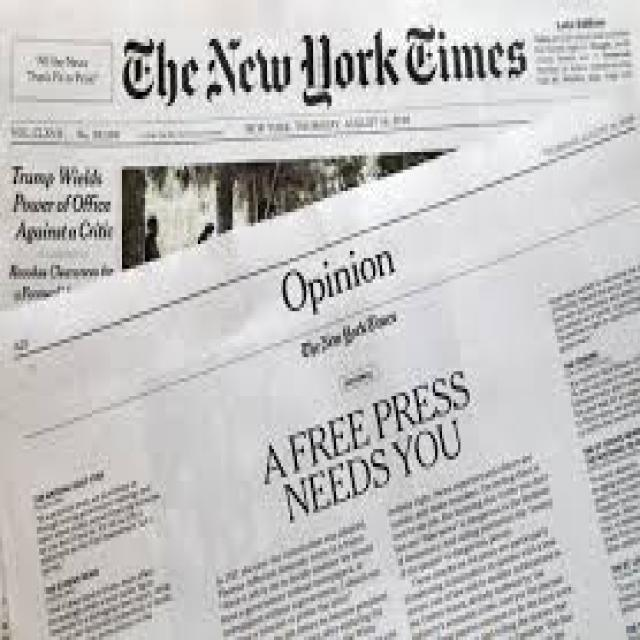Newspaper: (2, 7, 639, 640)
